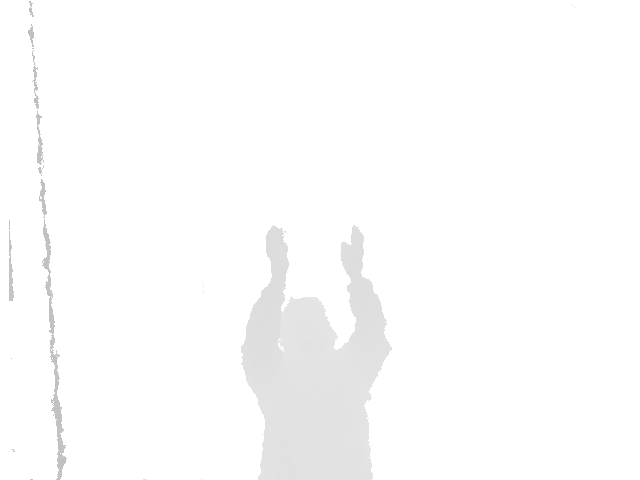hand: (336, 224, 370, 283), (263, 222, 291, 282)
head: (282, 290, 340, 363)
person: (238, 221, 391, 480)
